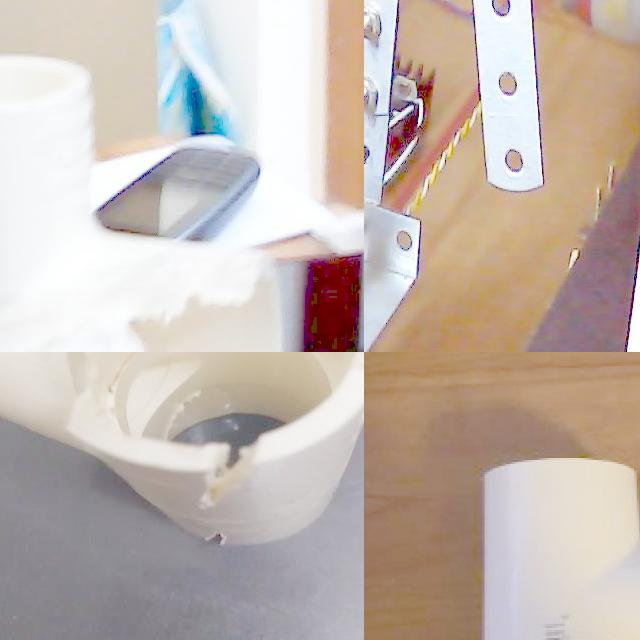Defective: (5, 257, 269, 352), (197, 439, 260, 507), (60, 352, 102, 394), (203, 527, 240, 556)
T Joint: (482, 458, 640, 640)
